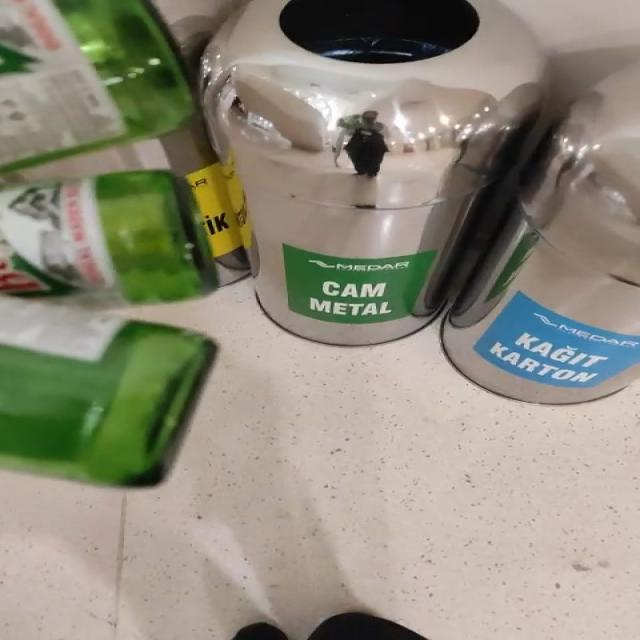bin: (203, 0, 545, 345)
glass: (0, 170, 216, 487), (0, 0, 195, 170)
